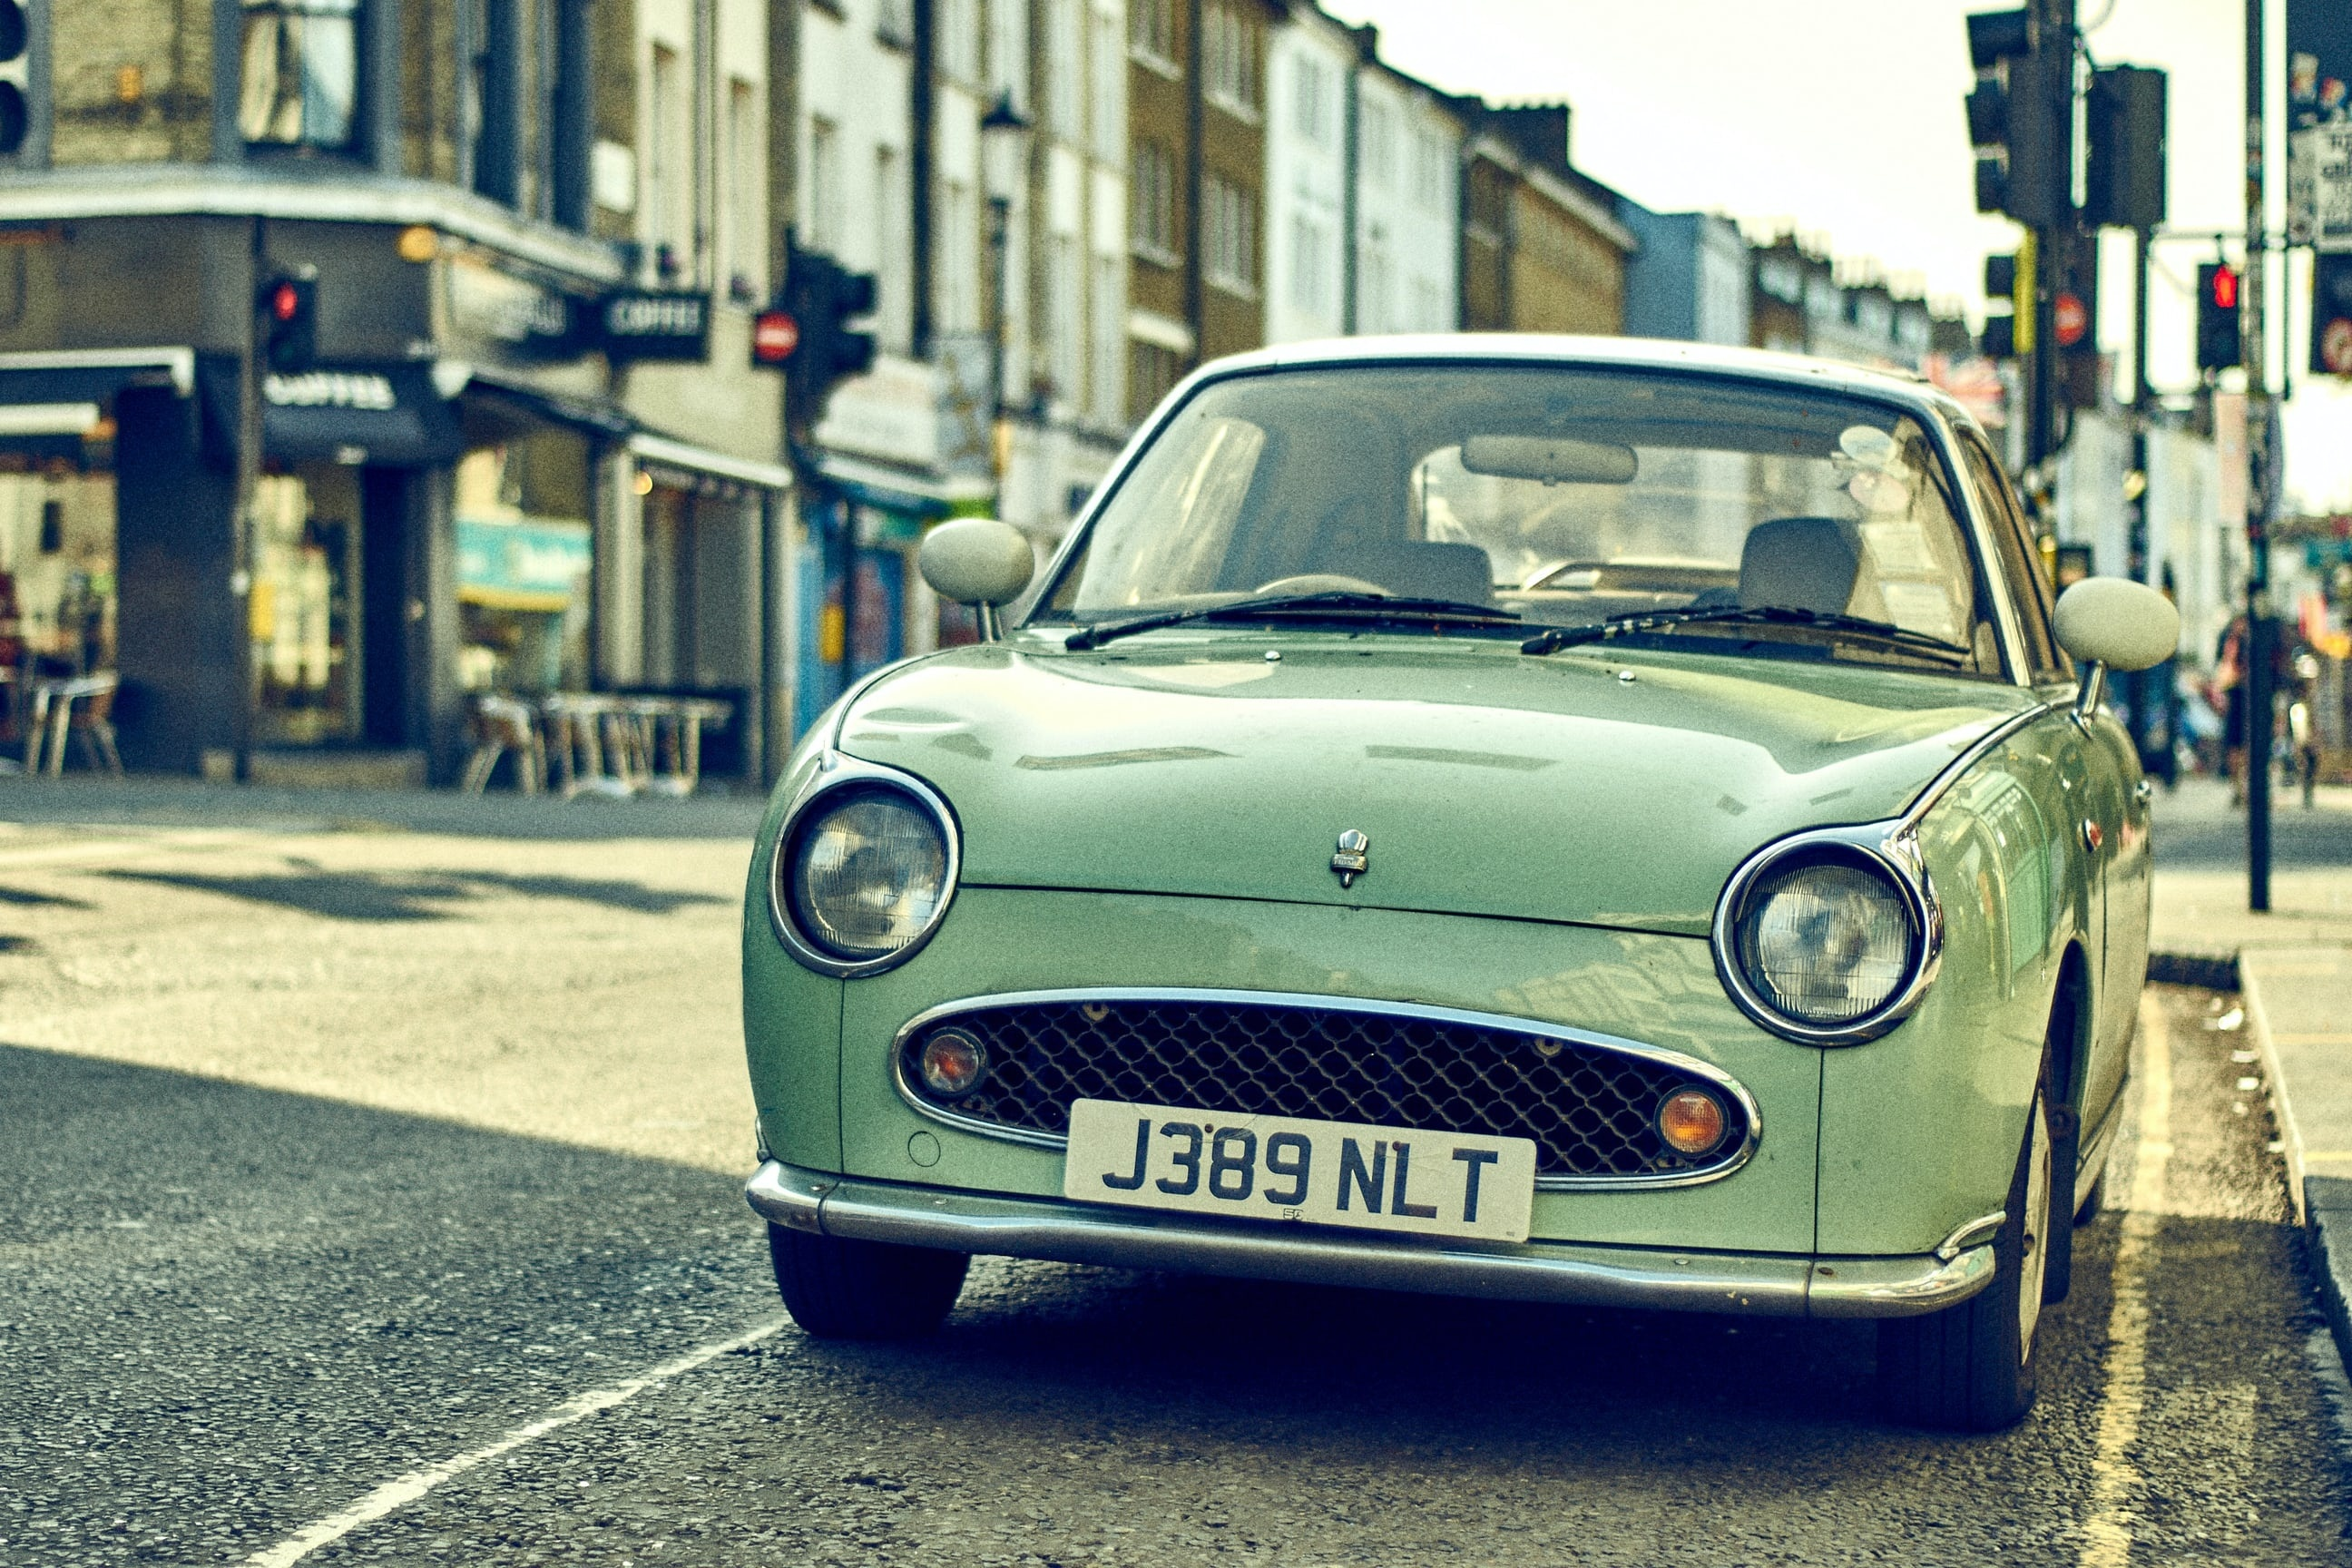plaka: (1063, 1096, 1537, 1248)
